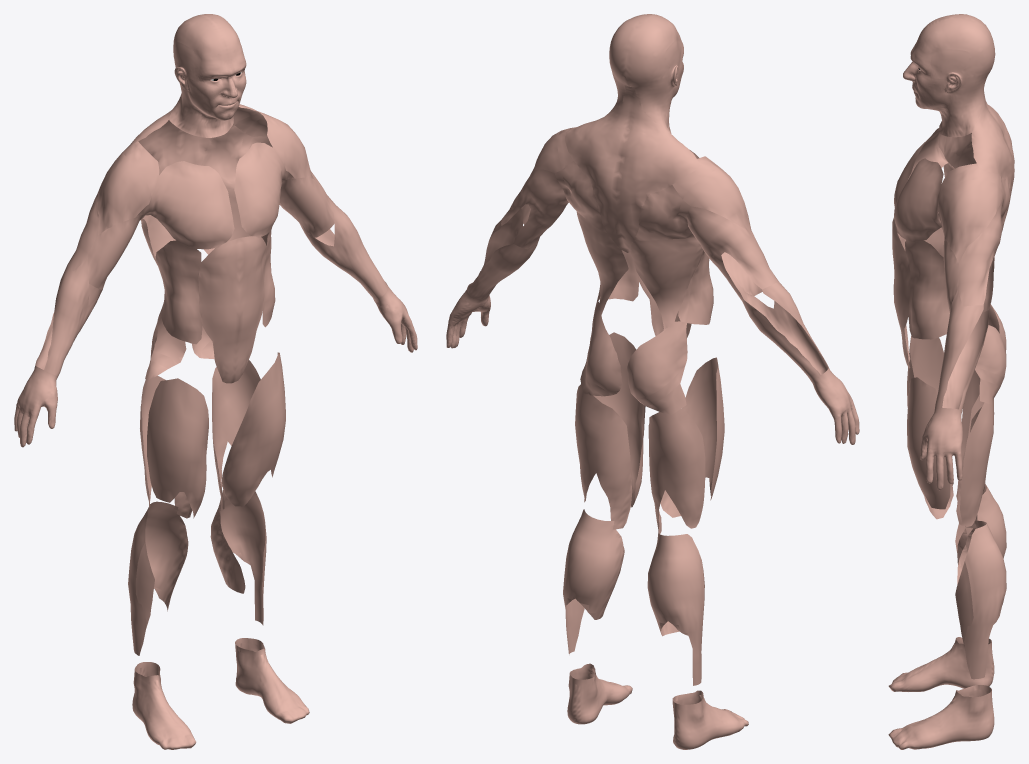
Rendered from Male7.glb.
The picture shows the model from 3 angles, left to right: view 1: azimuth 30°, elevation 25°; view 2: azimuth 150°, elevation 25°; view 3: azimuth 270°, elevation 25°; orthographic projection. The views are drawn at different scales.
Visible parts, largest first — view 1: Quads, Calfs, Chest, Abs, Head, Forearms, Feet, Shoulders Deltoid, External Oblique, Hamstrings, Biceps Brachii, Hand (Grip) (+6 smaller); view 2: Calfs, Hamstrings, Traps, Glutes, Triceps Brachii, Forearms, Quads, Lats, Head, Feet, Shoulders Deltoid, Middle back (+3 smaller); view 3: Head, Calfs, Feet, Shoulders Deltoid, Quads, Chest, External Oblique, Forearms, Hamstrings, Triceps Brachii, Hand (Grip), Traps (+5 smaller).
Boxes of the visible parts, x1,y1,x2,y2 form: Quads: [147, 352, 285, 518]; Calfs: [128, 490, 266, 655]; Chest: [136, 142, 294, 249]; Abs: [198, 236, 266, 383]; Head: [169, 14, 246, 137]; Forearms: [35, 197, 387, 376]; Feet: [132, 638, 309, 749]; Shoulders Deltoid: [97, 112, 316, 234]; External Oblique: [155, 230, 275, 344]; Hamstrings: [140, 360, 260, 518]; Biceps Brachii: [87, 177, 334, 289]; Hand (Grip): [14, 282, 417, 447]; Calfs: [563, 509, 704, 685]; Hamstrings: [575, 384, 705, 534]; Traps: [565, 85, 698, 252]; Glutes: [580, 301, 687, 415]; Triceps Brachii: [501, 169, 776, 301]; Forearms: [468, 208, 828, 380]; Quads: [593, 332, 724, 517]; Lats: [576, 211, 703, 329]; Head: [608, 14, 683, 133]; Feet: [567, 663, 748, 749]; Shoulders Deltoid: [532, 127, 755, 241]; Middle back: [554, 161, 692, 240]; Head: [903, 14, 995, 137]; Calfs: [955, 484, 1006, 679]; Feet: [888, 637, 994, 749]; Shoulders Deltoid: [938, 133, 1002, 262]; Quads: [907, 336, 953, 519]; Chest: [894, 128, 947, 241]; External Oblique: [905, 227, 949, 339]; Forearms: [935, 285, 989, 410]; Hamstrings: [956, 370, 994, 528]; Triceps Brachii: [958, 142, 1001, 312]; Hand (Grip): [920, 408, 962, 490]; Traps: [971, 85, 1014, 217].
Bounding box in the file's own units: 1.19 × 2 × 0.3284.
